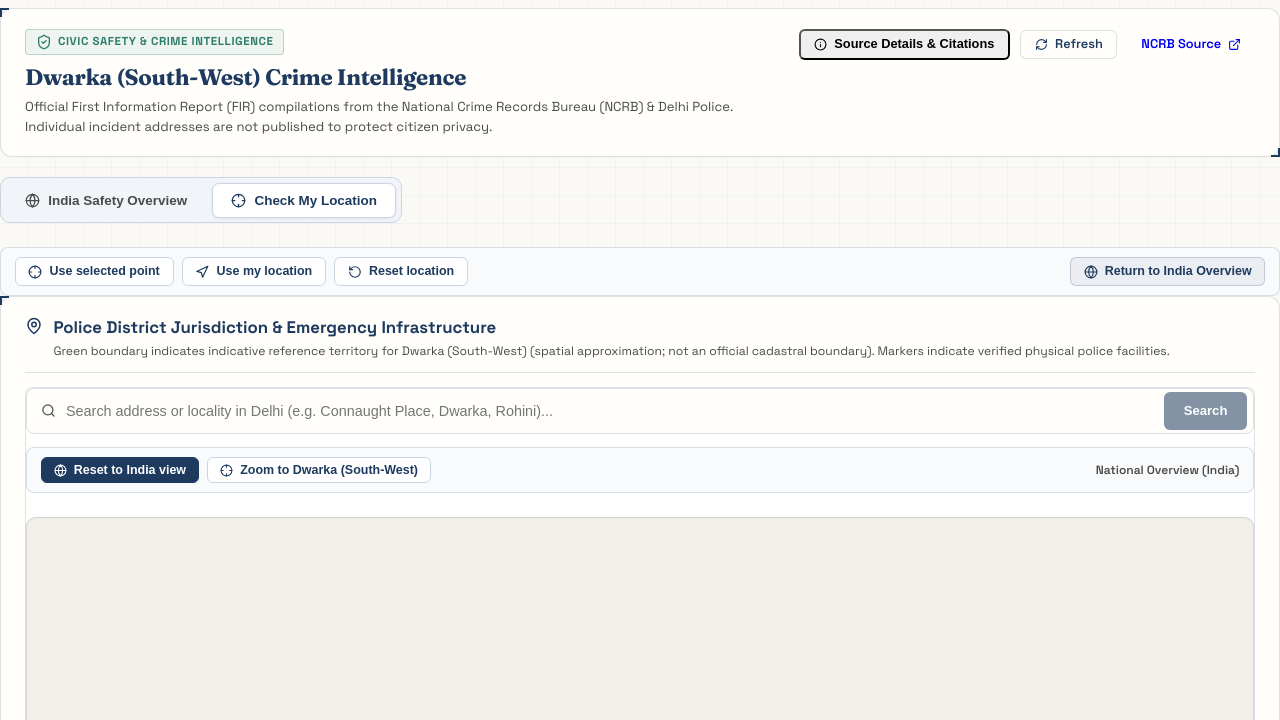
it: Safety & Crime Intelligence Workspace Component › toggles provenance and citations panel and displays legal methodology
// Click toggle button
Click the button with test id "toggle-provenance-btn" at (904, 45), box [798,29,1010,60]
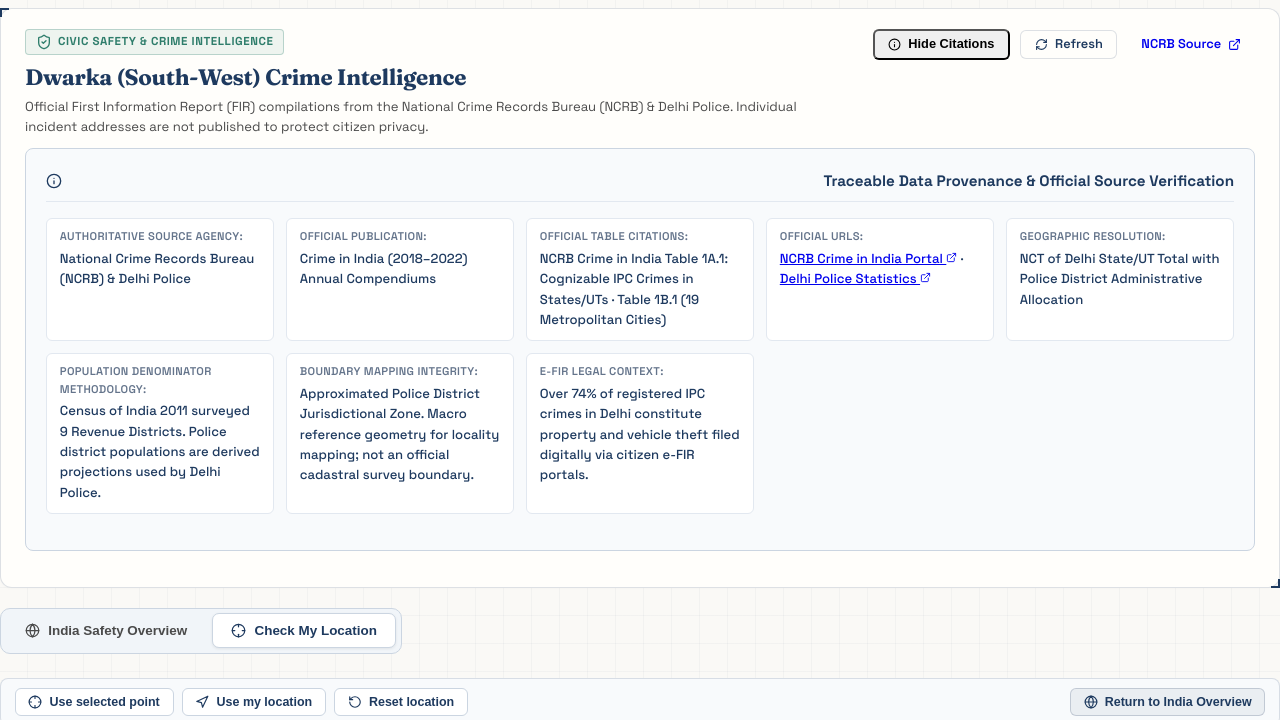
Now the element with test id "provenance-panel" is shown, box [25,148,1255,551]
Now the text "NCRB Crime in India Table 1A.1" is shown, box [540,250,728,308]
Now the text "Approximated Police District Jurisdictional Zone" is shown, box [300,385,499,483]
